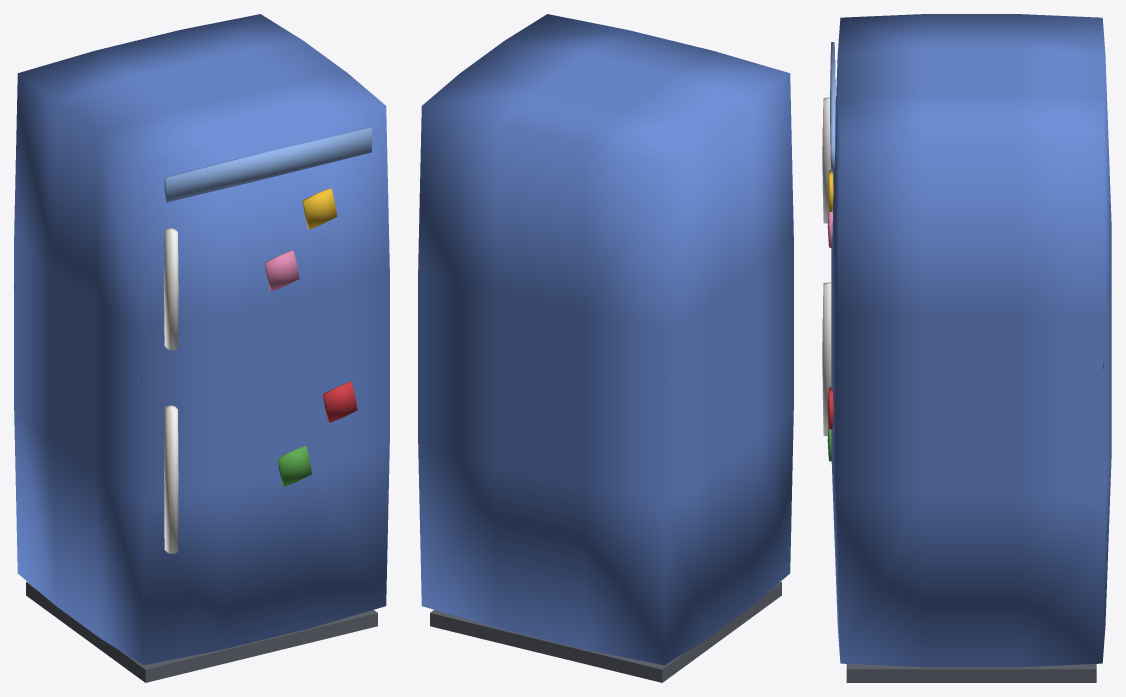
The model's file is fridge_blue.glb.
3 views of the same model, side by side, from view 1: azimuth 30°, elevation 25°; view 2: azimuth 150°, elevation 25°; view 3: azimuth 270°, elevation 25° (orthographic). The views are drawn at different scales.
Parts seen in each view (by area): view 1: root; view 2: root; view 3: root.
Boxes of the visible parts, x1=… form: root: x1=14, y1=14, x2=389, y2=682; root: x1=418, y1=14, x2=793, y2=682; root: x1=822, y1=14, x2=1111, y2=682.
Size of the model in its own units: 1.02 by 2 by 0.95.
